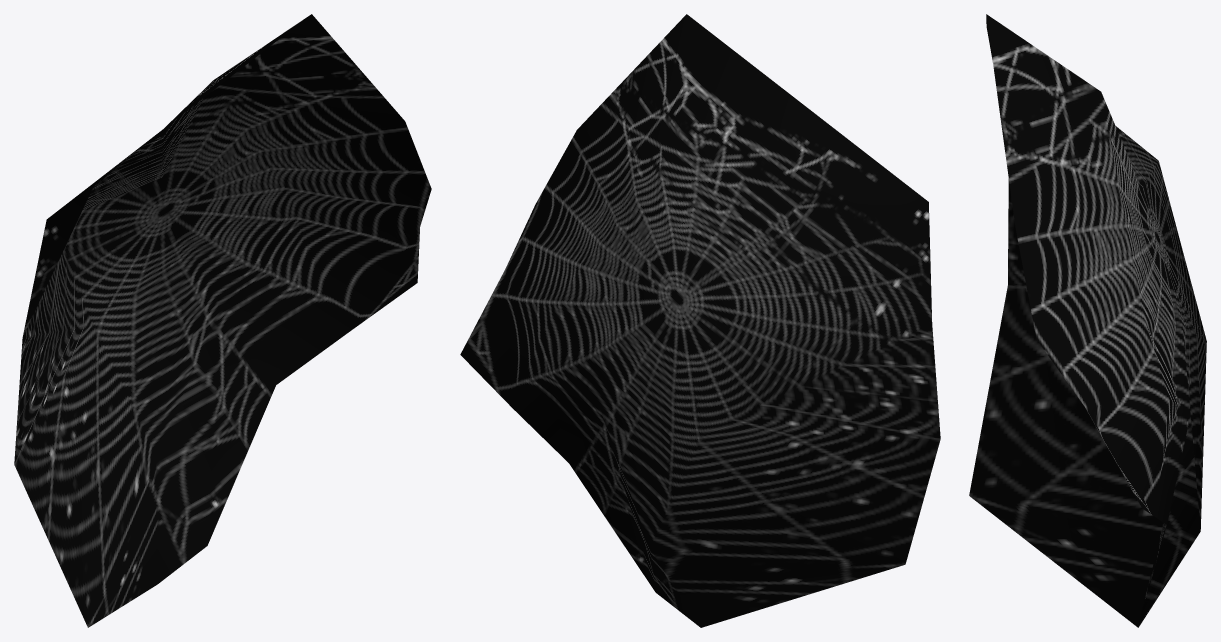
Rendered from Cobweb_02.fbx.
The picture shows the model from 3 angles, left to right: view 1: azimuth 30°, elevation 25°; view 2: azimuth 150°, elevation 25°; view 3: azimuth 270°, elevation 25°; orthographic projection. The views are drawn at different scales.
Visible parts, largest first — view 1: polySurface4; view 2: polySurface4; view 3: polySurface4.
Boxes of the visible parts, x1=… form: polySurface4: x1=14, y1=14, x2=431, y2=627; polySurface4: x1=460, y1=14, x2=940, y2=627; polySurface4: x1=969, y1=14, x2=1206, y2=627.
Size of the model in its own units: 91.38 by 113 by 36.88.
Materials: 1 (1 with a texture image).
